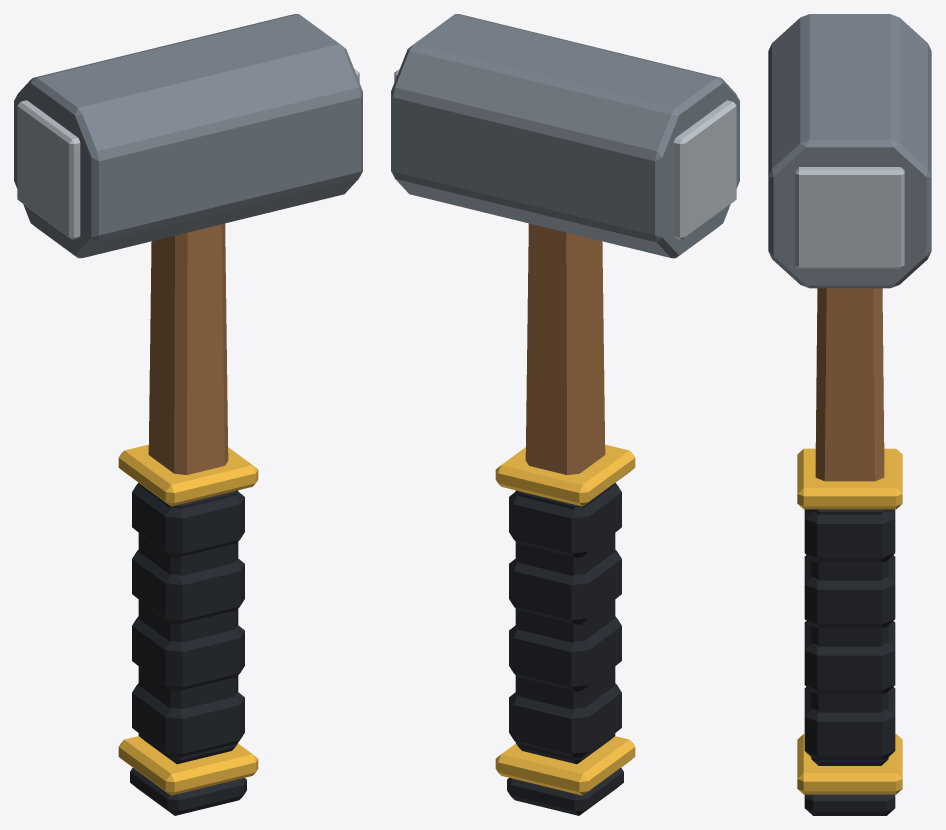
The model's file is Tool_StarterHammer.fbx.
3 renders of one model, left to right at view 1: azimuth 30°, elevation 25°; view 2: azimuth 150°, elevation 25°; view 3: azimuth 270°, elevation 25°, orthographic.
Visible parts, largest first — view 1: Steel, Rubber, Wood, Amber, SteelLight; view 2: Steel, Rubber, Wood, Amber, SteelLight; view 3: Steel, Rubber, Wood, SteelLight, Amber.
Boxes of the visible parts, x1,y1,x2,y2 form: Steel: (14,14,362,258); Rubber: (130,483,246,815); Wood: (148,223,228,474); Amber: (118,444,258,795); SteelLight: (17,68,359,239); Steel: (391,14,739,258); Rubber: (507,483,623,815); Wood: (525,223,605,474); Amber: (495,444,635,795); SteelLight: (394,68,736,239); Steel: (768,14,931,288); Rubber: (804,509,895,815); Wood: (815,288,884,481); SteelLight: (795,167,904,268); Amber: (797,448,902,794).
Bounding box in the file's own units: 1.82 × 4.39 × 0.9.
